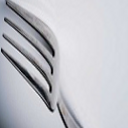Fork: (1, 2, 96, 128)
